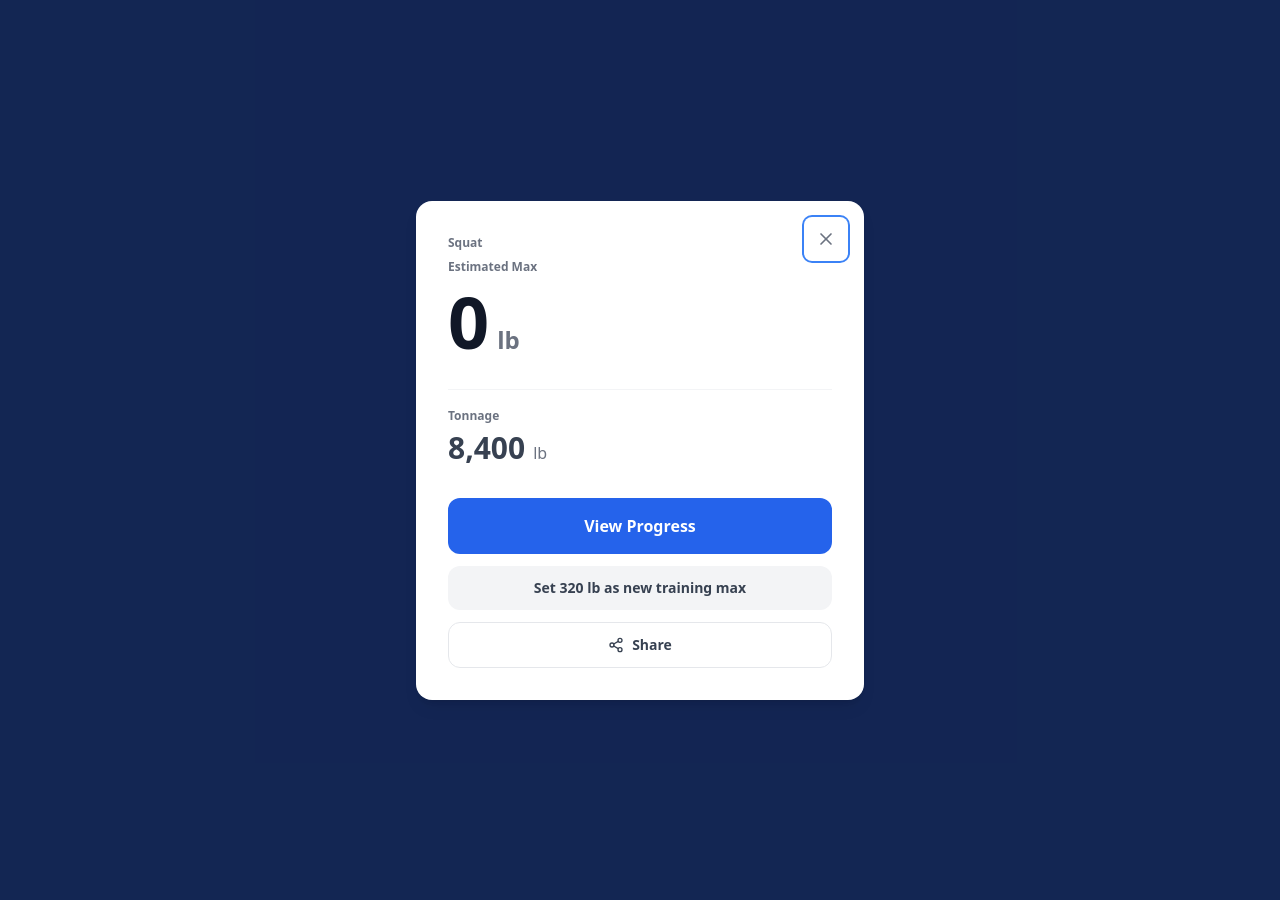
Test case: WorkoutSuccessModal › keeps showing the value it saved even if newTrainingMax changes afterward
Click the button "Set 320 lb as new training max": (640, 588) top-left (448, 566), bottom-right (832, 610)
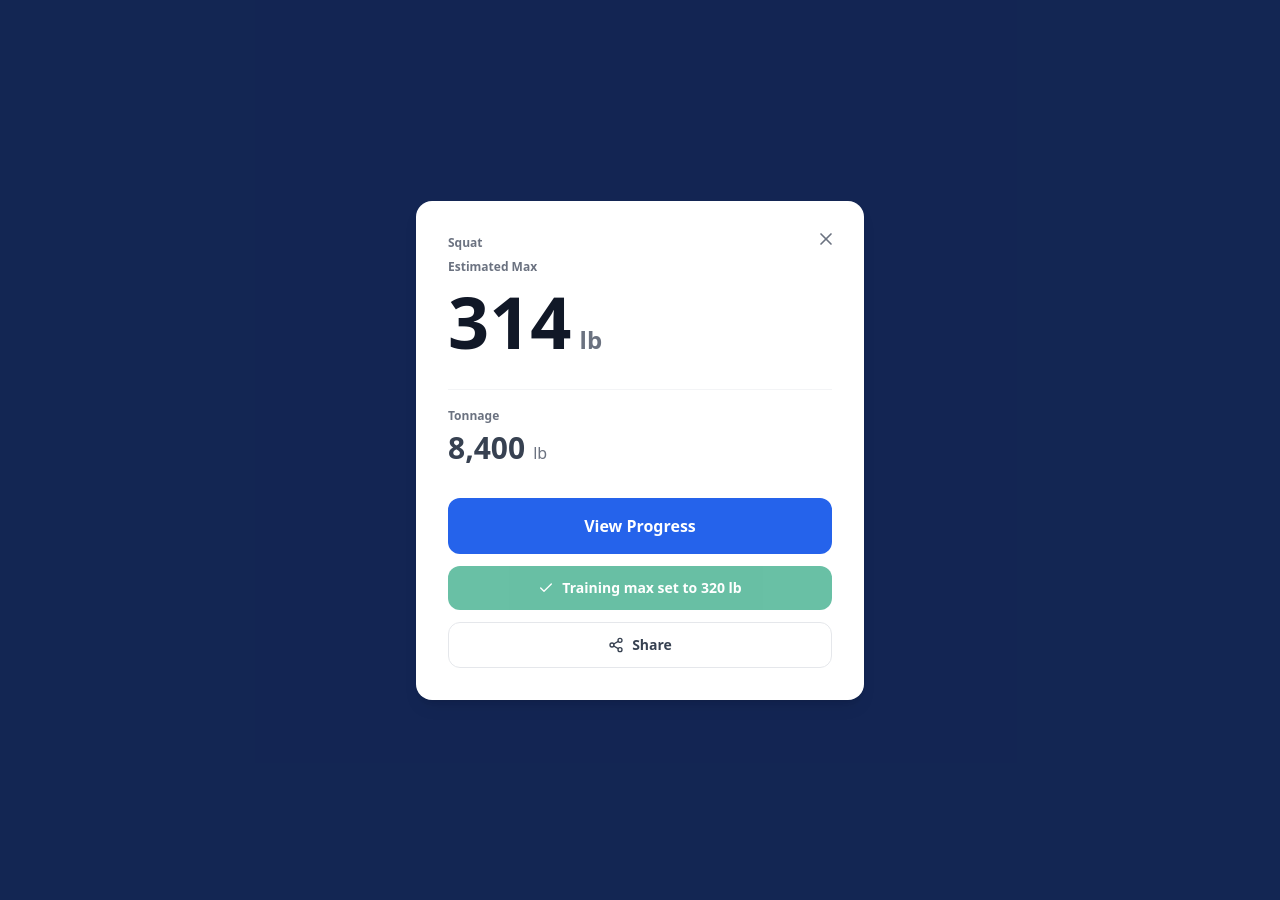
Now the button "Training max set to 320 lb" is shown, box top-left (448, 566), bottom-right (832, 610)
